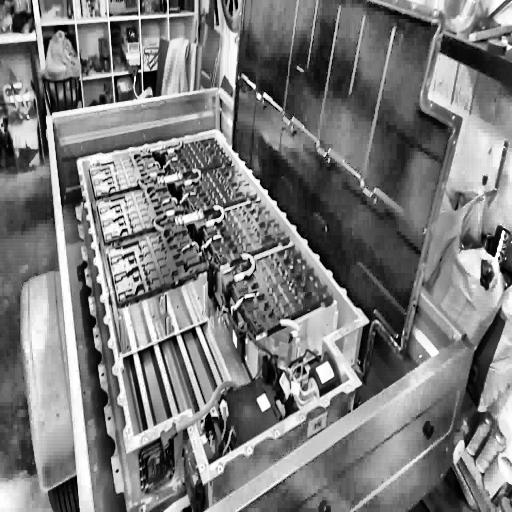high_volt_cable: (164, 136, 305, 352), (159, 375, 241, 455), (124, 140, 177, 237)
